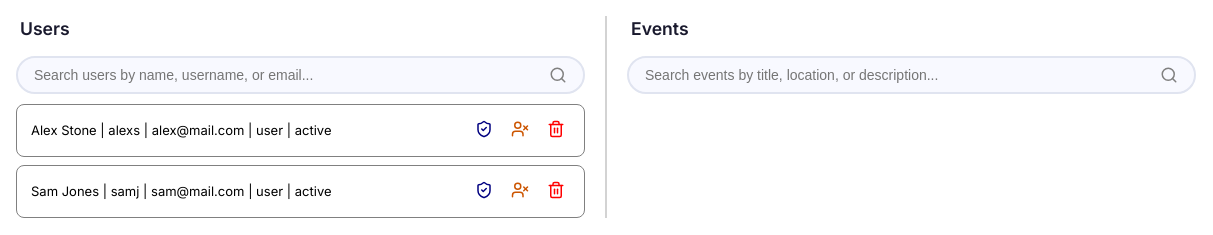
AdminManagement search tests › filters users by email
Expected: the text "Alex Stone | alexs | alex@mail.com | user | active" is shown, left=31, top=121, right=332, bottom=140
Expected: the text "Sam Jones | samj | sam@mail.com | user | active" is shown, left=31, top=182, right=332, bottom=201
Type "sam@mail.com" into the field with placeholder "Search users by name, username, or email...".
click(292, 75); type("sam@mail.com")  # box left=34, top=67, right=549, bottom=83
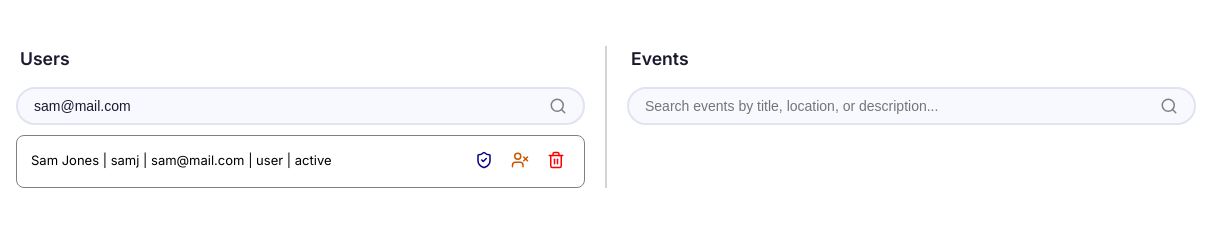
Expected: the text "Sam Jones | samj | sam@mail.com | user | active" is shown, left=31, top=151, right=332, bottom=171
Result: the text "alex@mail.com" is gone
